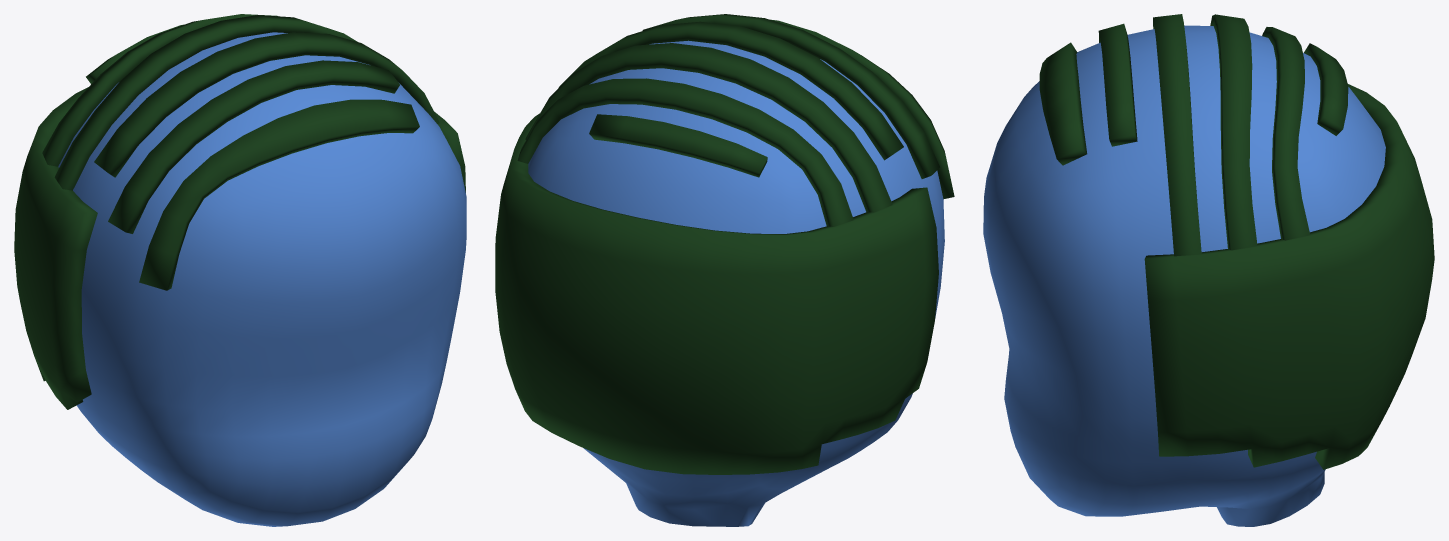
The model's file is Brute_Sliced_Decapitated_Head.fbx.
3 views of the same model, side by side, from view 1: azimuth 30°, elevation 25°; view 2: azimuth 150°, elevation 25°; view 3: azimuth 270°, elevation 25° (orthographic). The views are drawn at different scales.
Visible parts, largest first — view 1: Head(Brute), Hair(Brute); view 2: Hair(Brute), Head(Brute); view 3: Head(Brute), Hair(Brute).
Part boxes in pixels (left/top/right/bottom): Head(Brute): left=58, top=32, right=466, bottom=526; Hair(Brute): left=14, top=14, right=465, bottom=409; Hair(Brute): left=495, top=14, right=954, bottom=474; Head(Brute): left=528, top=40, right=944, bottom=526; Head(Brute): left=983, top=25, right=1385, bottom=526; Hair(Brute): left=1039, top=14, right=1434, bottom=469.
Bounding box in the file's own units: 786 × 883 × 749.
